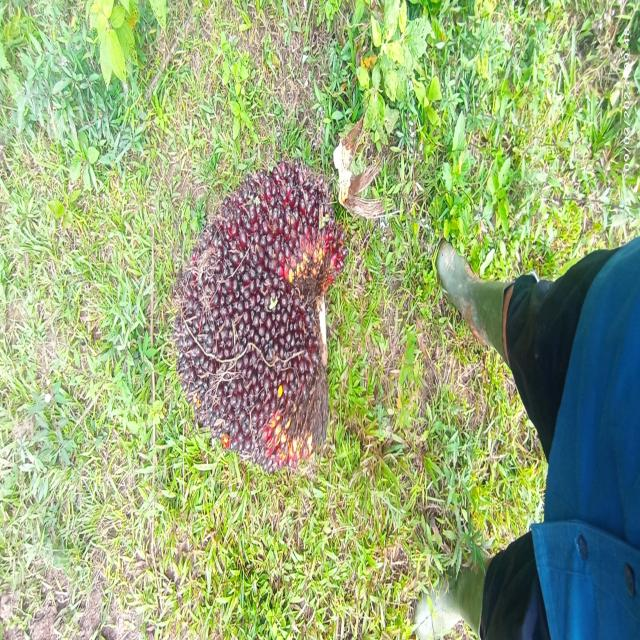fraksi 1: (154, 146, 357, 493)
